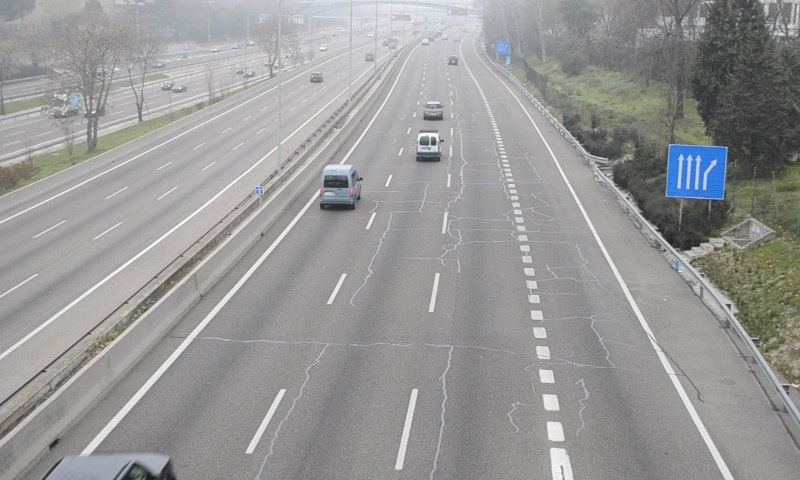car: (422, 101, 444, 120)
van: (319, 164, 360, 206), (415, 129, 441, 162)
